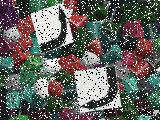Left: (30, 2, 74, 54)
Right: (74, 65, 122, 113)
